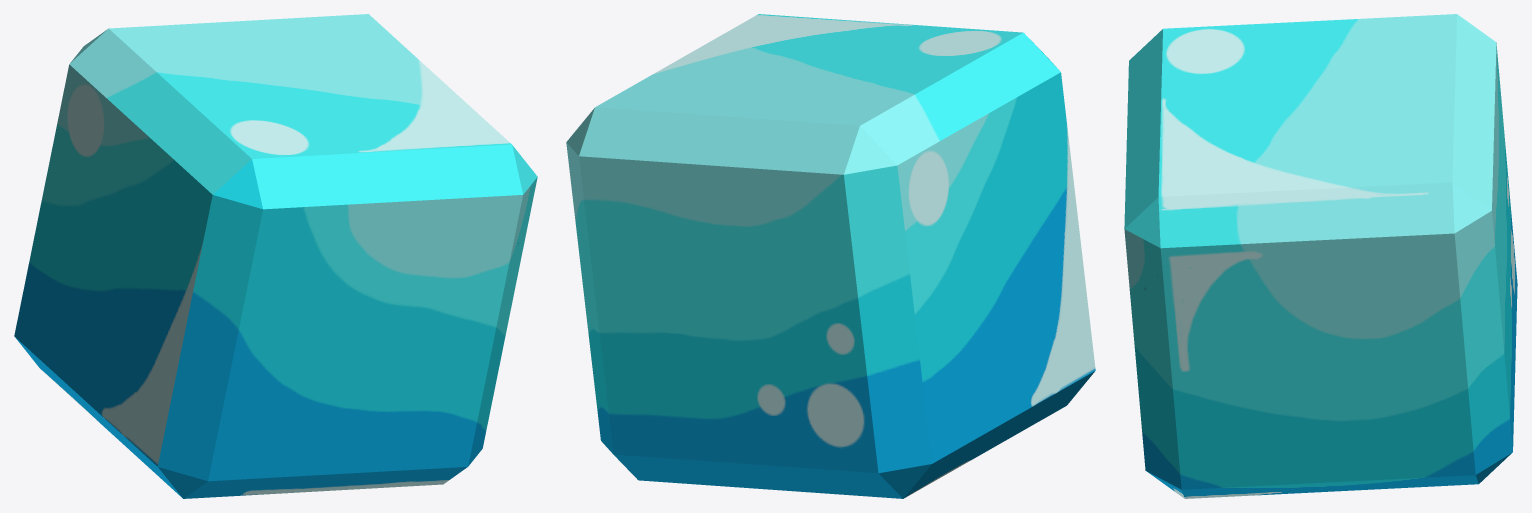
The model's file is ice 2.fbx.
The picture shows the model from 3 angles, left to right: view 1: azimuth 30°, elevation 25°; view 2: azimuth 150°, elevation 25°; view 3: azimuth 270°, elevation 25°; orthographic projection. The views are drawn at different scales.
Visible parts, largest first — view 1: Cube.001; view 2: Cube.001; view 3: Cube.001.
Part boxes in pixels (bbox=[...]): Cube.001: bbox=[14, 14, 537, 498]; Cube.001: bbox=[566, 14, 1095, 498]; Cube.001: bbox=[1124, 14, 1517, 498].
Size of the model in its own units: 139 by 143 by 130.
1 material, 1 textured.
